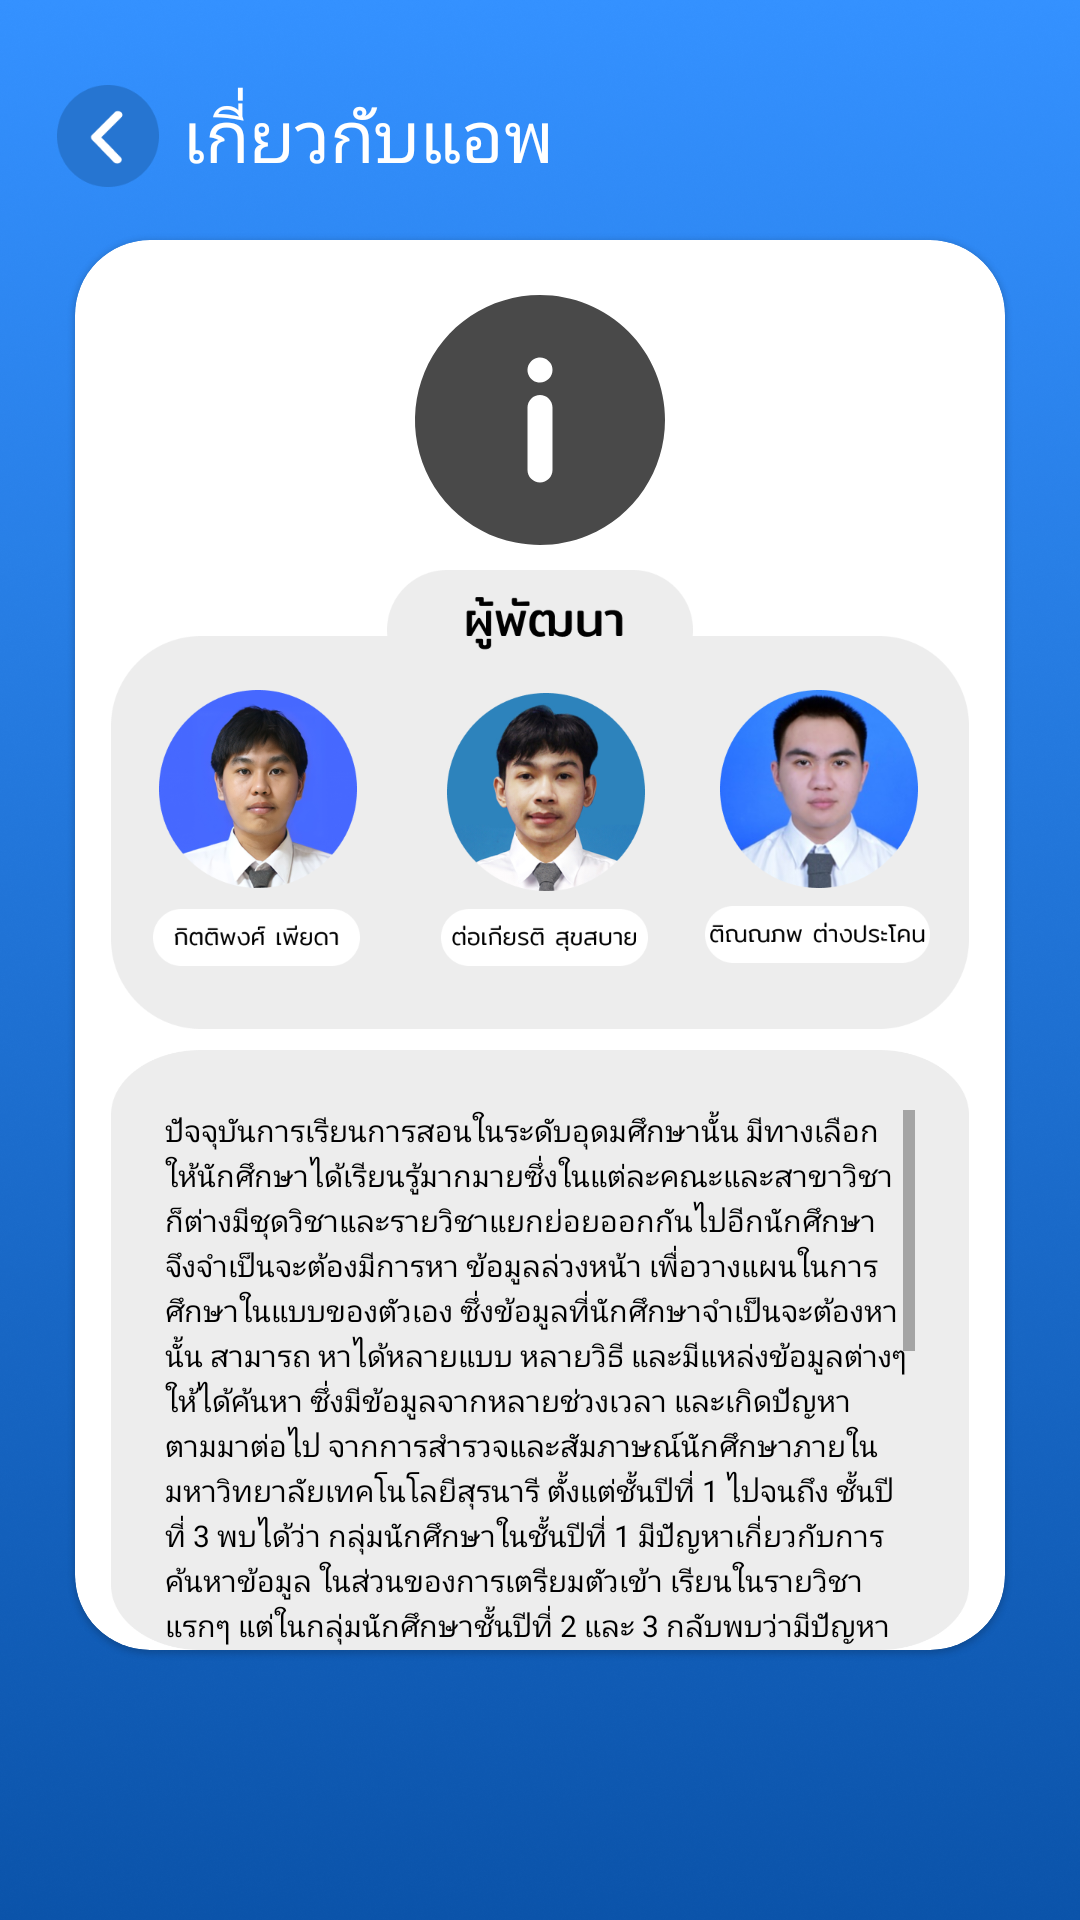

Icon bounding boxes for this 1080x1920 phone screenshot, format (x1=x1, y1=y1, x2=x2, y2=y2):
back circle: (x1=57, y1=85, x2=159, y2=187)
info: (x1=415, y1=295, x2=665, y2=545)
